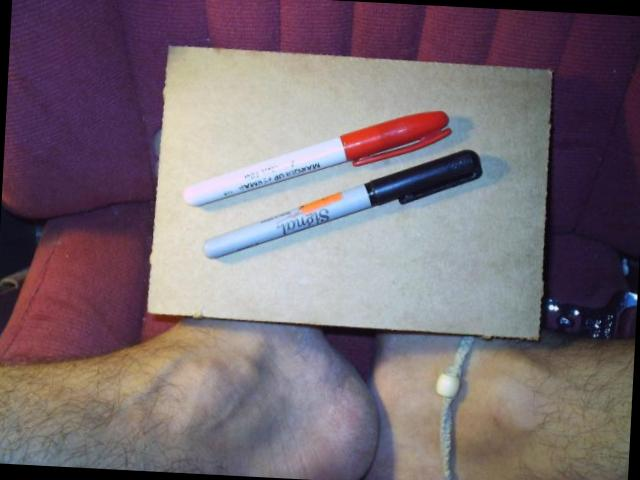PEN: (197, 136, 506, 266), (175, 94, 475, 214)
